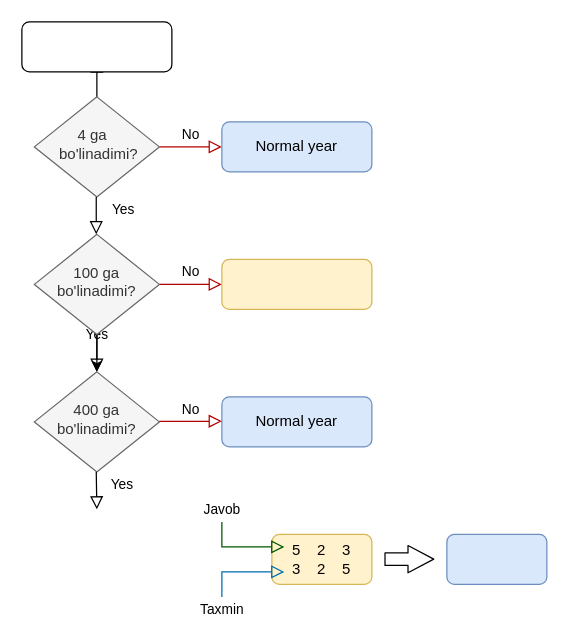
Some shapes in this 569 by 639 pixel diagram are drawn without their labels. Here are the shapes that lost their labels. From the top down, the centre of each, then its label:
At pixel 96 46: "Yilni kiriting?".
At pixel 296 283: "Leap year".
At pixel 496 558: "1S2B".
